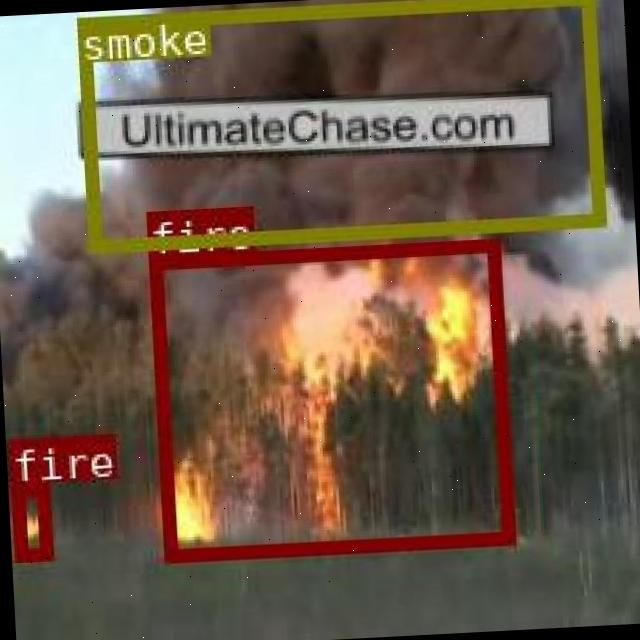fire: (148, 238, 514, 560), (10, 482, 50, 558)
smoke: (73, 0, 603, 252)
